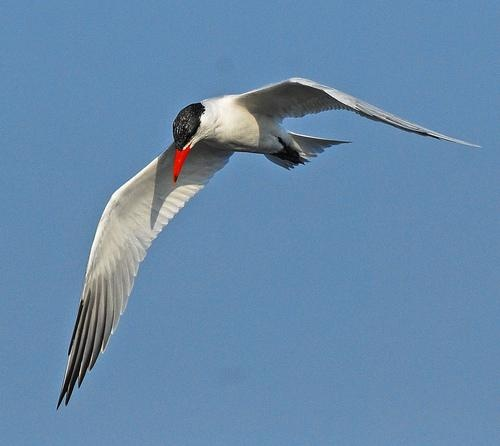bird: (48, 76, 481, 407)
